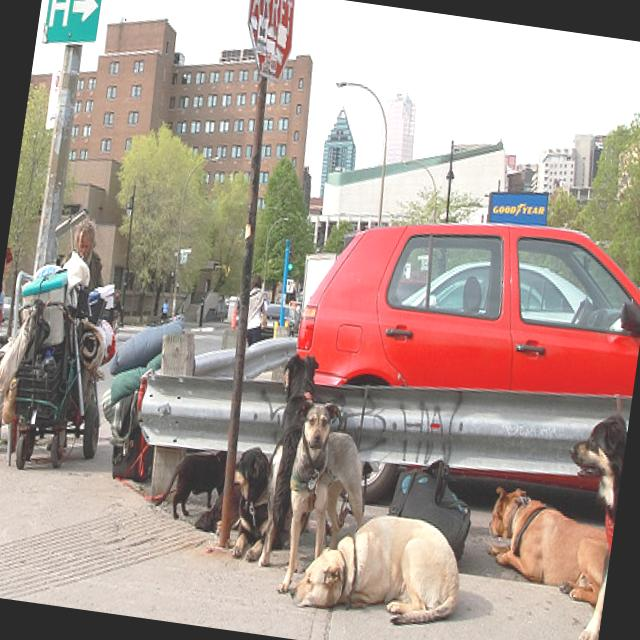Vehicle: (290, 190, 640, 433)
